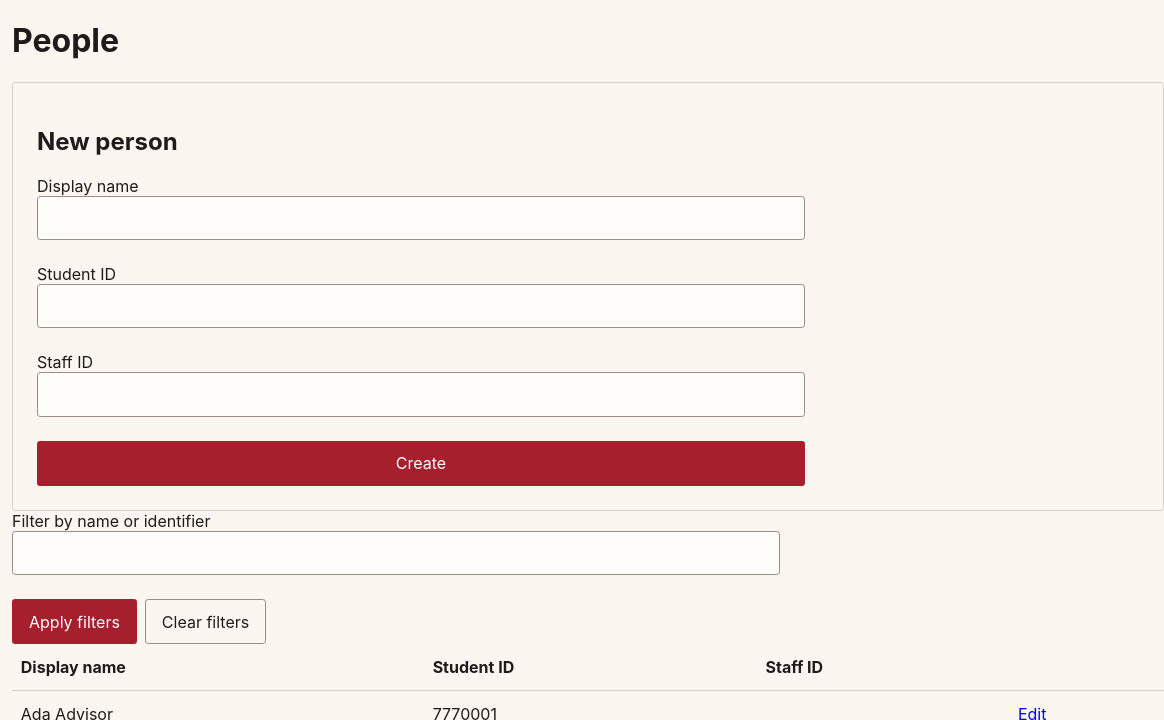
it: administrator people list › filters and pages People with local cursor history
Type "Ada" into the field labelled "Filter by name or identifier" at (396, 553), box left=12, top=531, right=780, bottom=575
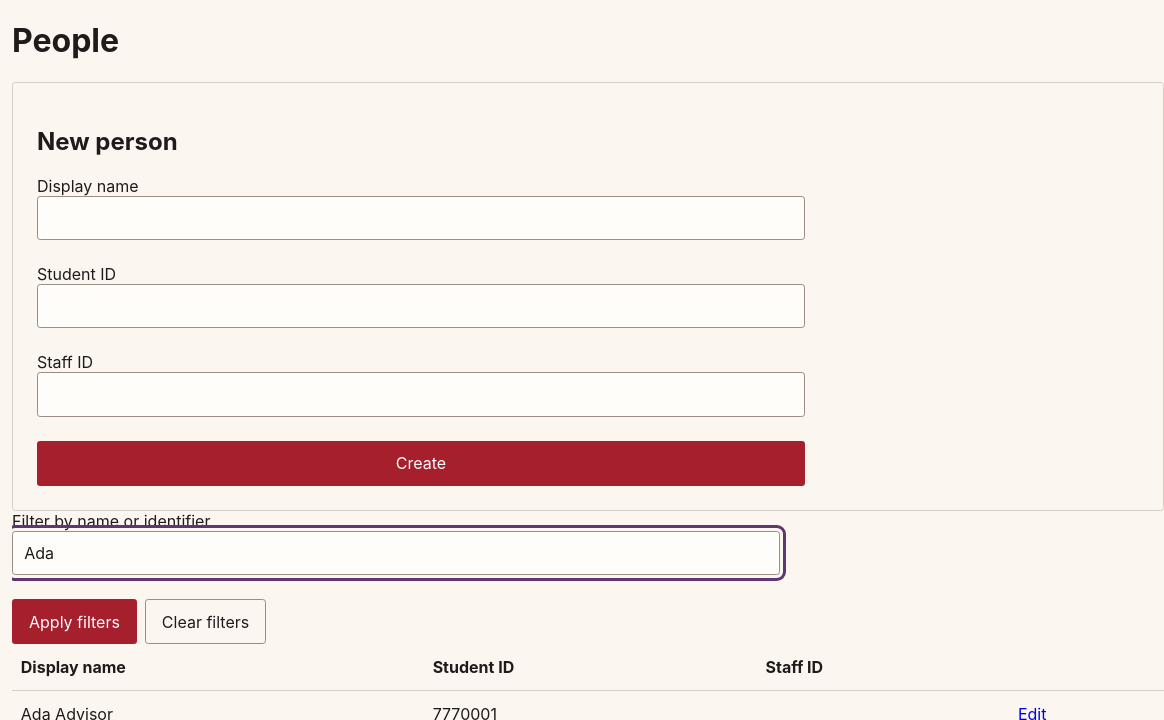
Click the button "Apply filters" at (74, 622), box left=12, top=599, right=137, bottom=644
(page scrolled)
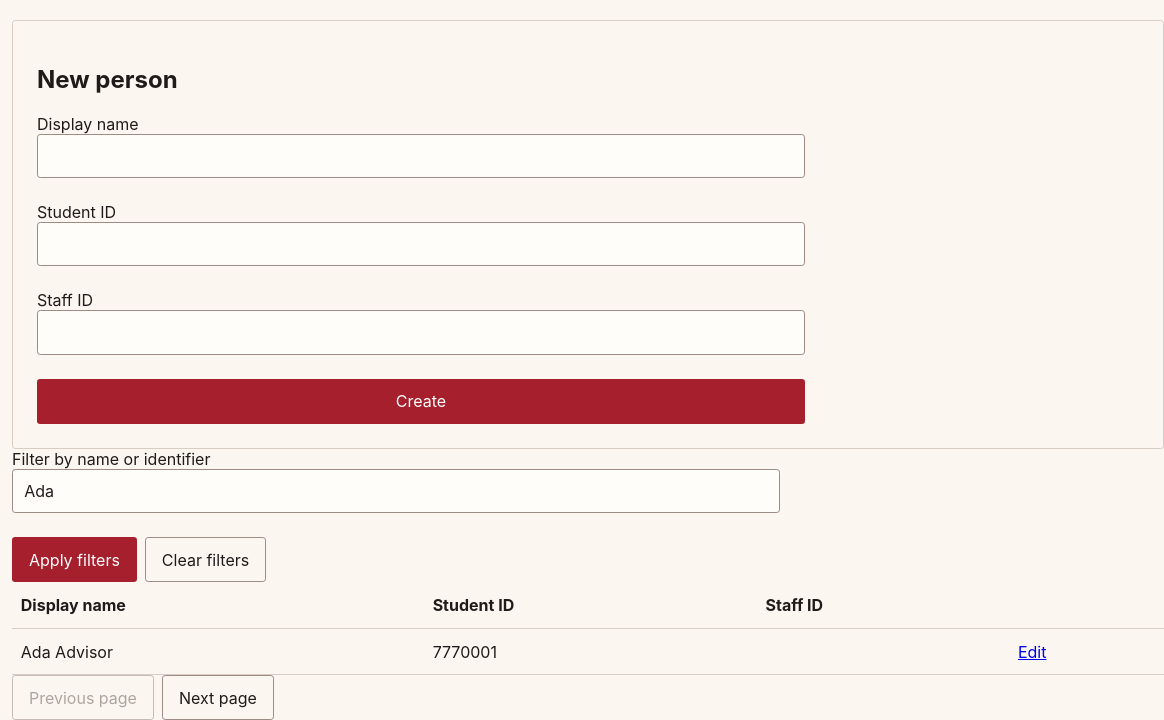
Click the button "Next page" at (218, 698), box left=162, top=675, right=274, bottom=719
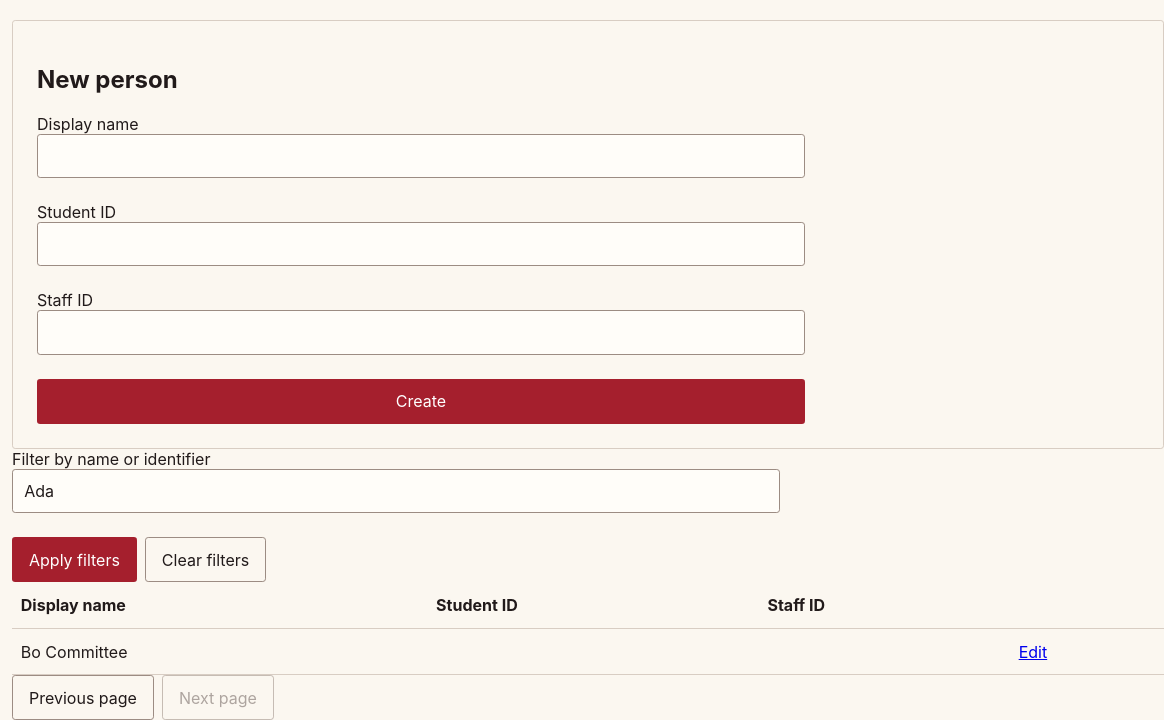
Result: the text "Bo Committee" is shown at left=12, top=628, right=427, bottom=675
Click the button "Previous page" at (83, 698), box left=12, top=675, right=154, bottom=719
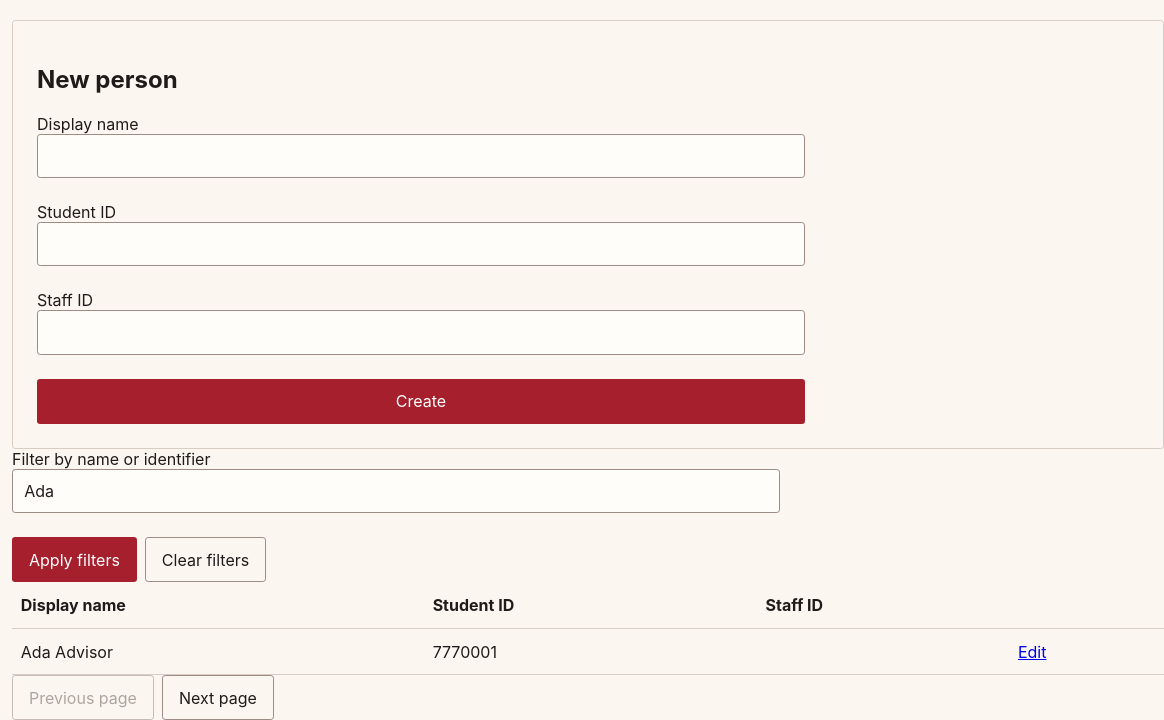
Result: the text "Ada Advisor" is shown at left=12, top=628, right=424, bottom=675
